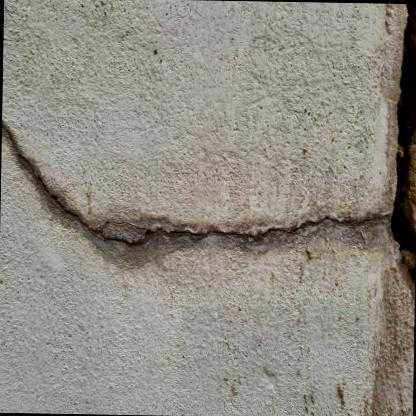crack: (1, 123, 391, 238), (390, 3, 416, 281)
